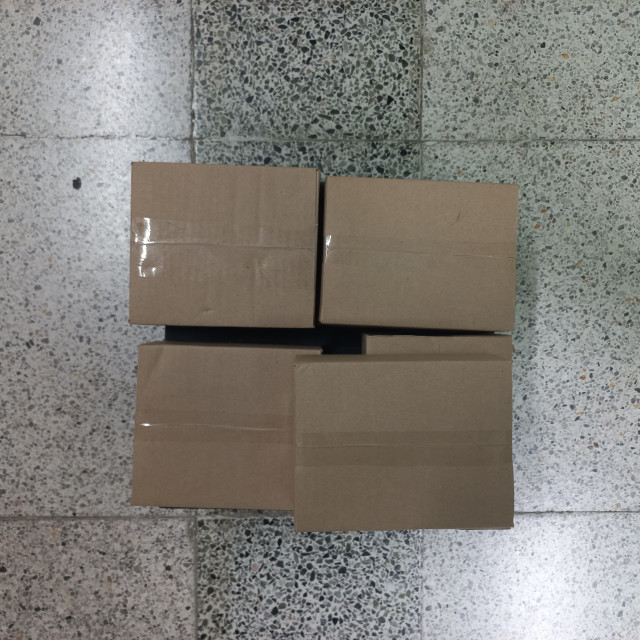box: (290, 350, 516, 534), (316, 172, 524, 334), (126, 161, 318, 333), (126, 338, 311, 514), (174, 107, 343, 290), (320, 309, 465, 481), (168, 306, 322, 465)
